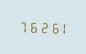one: (58, 20, 67, 34)
seven: (18, 19, 27, 33)
six: (28, 19, 37, 33), (48, 20, 57, 34)
two: (38, 19, 47, 34)
